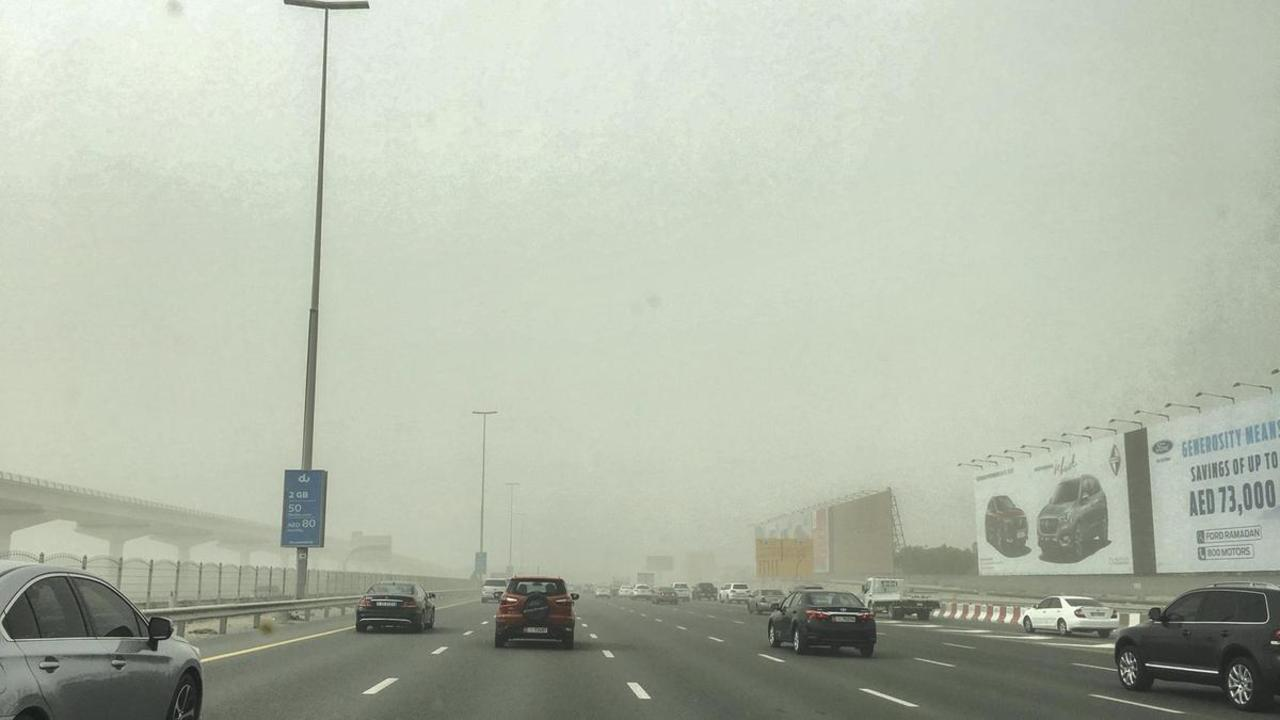car: (1, 565, 210, 719), (1110, 580, 1278, 709), (766, 590, 880, 656), (493, 575, 578, 649), (353, 581, 438, 633), (1021, 594, 1125, 635), (748, 586, 782, 613), (479, 577, 507, 602), (719, 582, 748, 605), (649, 586, 678, 604), (691, 582, 718, 601), (670, 581, 692, 600), (629, 582, 650, 598), (594, 584, 612, 599), (581, 582, 597, 593), (617, 584, 631, 596)
truck: (863, 576, 943, 620)
